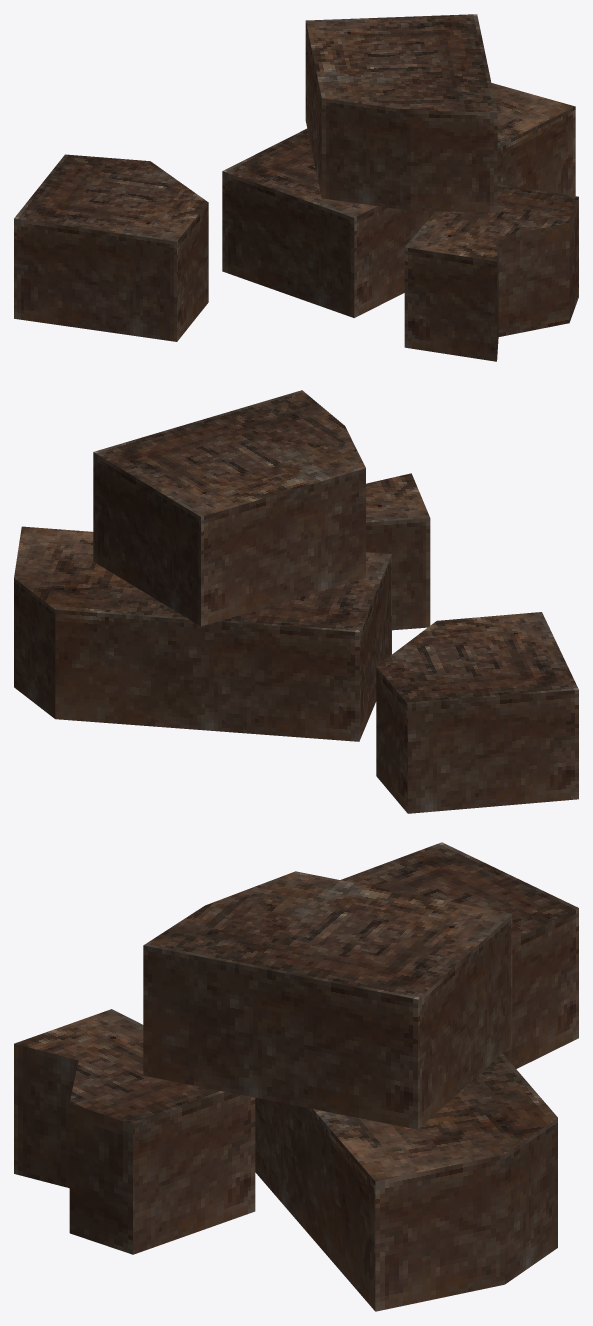
Rendered from bricks_stacked_mx_4.glb.
3 views of the same model, one above another, from view 1: azimuth 30°, elevation 25°; view 2: azimuth 150°, elevation 25°; view 3: azimuth 270°, elevation 25° (orthographic). The views are drawn at different scales.
Parts seen in each view (by area): view 1: bricks_stacked_mx_4; view 2: bricks_stacked_mx_4; view 3: bricks_stacked_mx_4.
Part boxes in pixels (box(x1,y1,x2,y2)): bricks_stacked_mx_4: box(14, 14, 578, 361); bricks_stacked_mx_4: box(14, 390, 578, 813); bricks_stacked_mx_4: box(14, 842, 578, 1311).
Size of the model in its own units: 0.5033 by 0.18 by 0.3541.
1 material, 1 textured.
